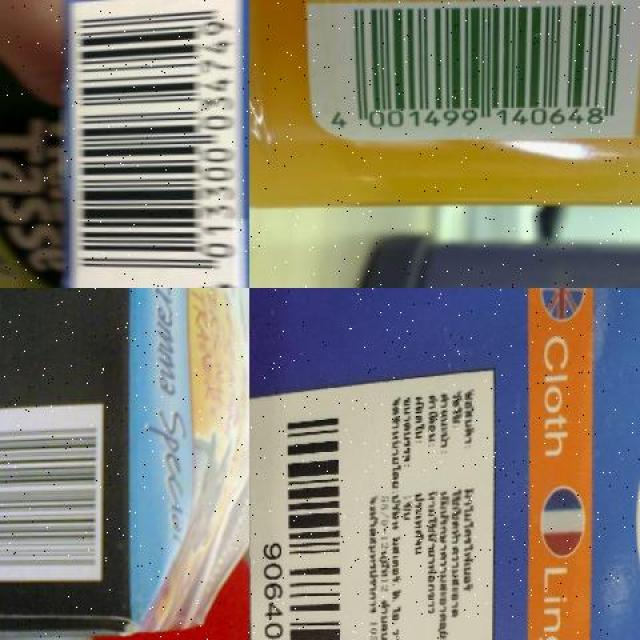Barcode: (76, 0, 244, 288), (308, 0, 640, 140), (260, 400, 356, 640), (0, 402, 105, 581)
